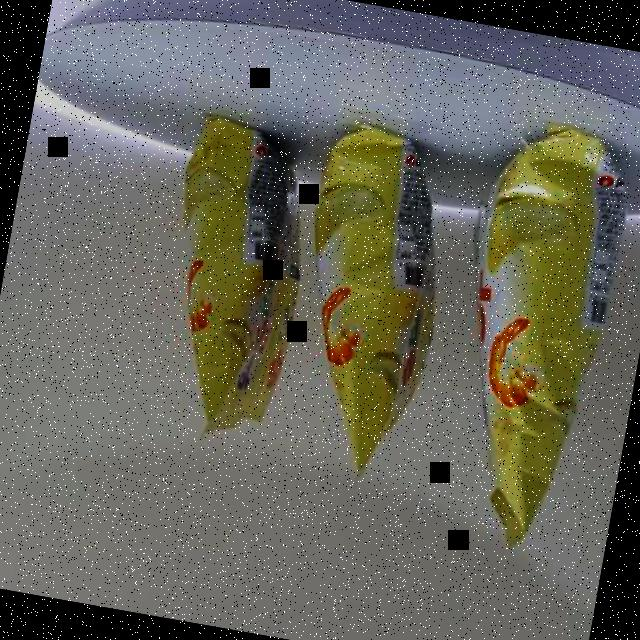snack_bag: (119, 43, 640, 565)
